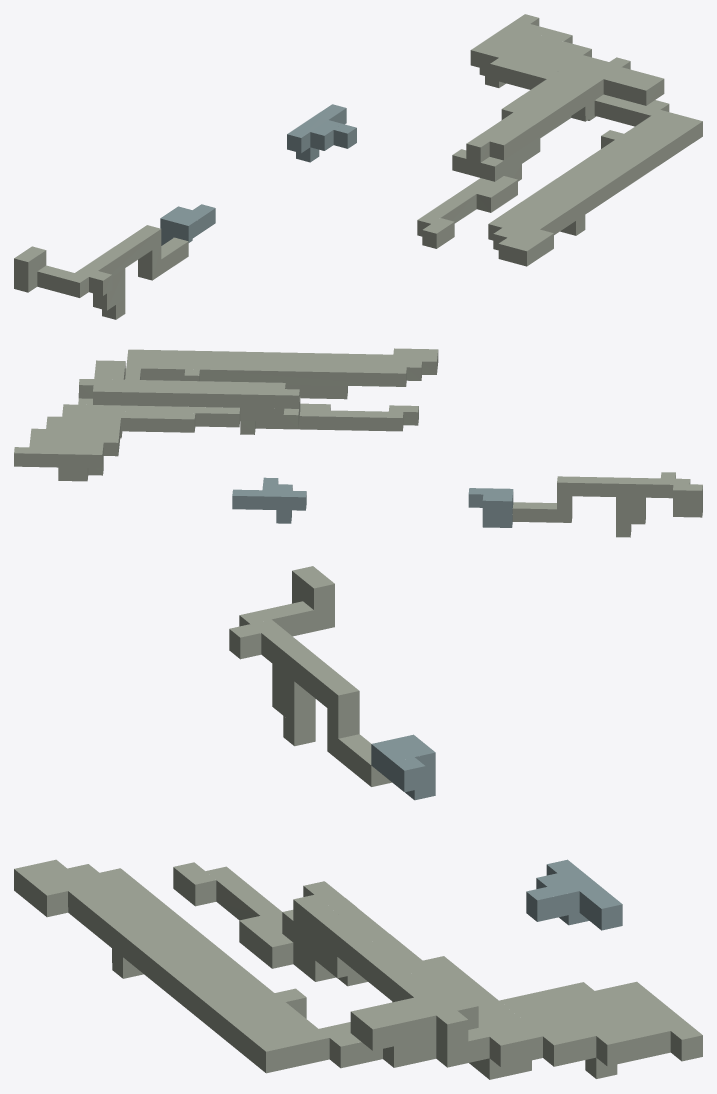
3 renders of one model, top to bottom at view 1: azimuth 30°, elevation 25°; view 2: azimuth 150°, elevation 25°; view 3: azimuth 270°, elevation 25°, orthographic. The views are drawn at different scales.
Visible parts, largest first — view 1: measured-industrial; view 2: measured-industrial; view 3: measured-industrial.
Boxes of the visible parts, x1,y1,x2,y2 form: measured-industrial: [14, 14, 702, 319]; measured-industrial: [14, 348, 702, 537]; measured-industrial: [14, 566, 702, 1079].
Size of the model in its own units: 46.1 by 5.03 by 28.88.
